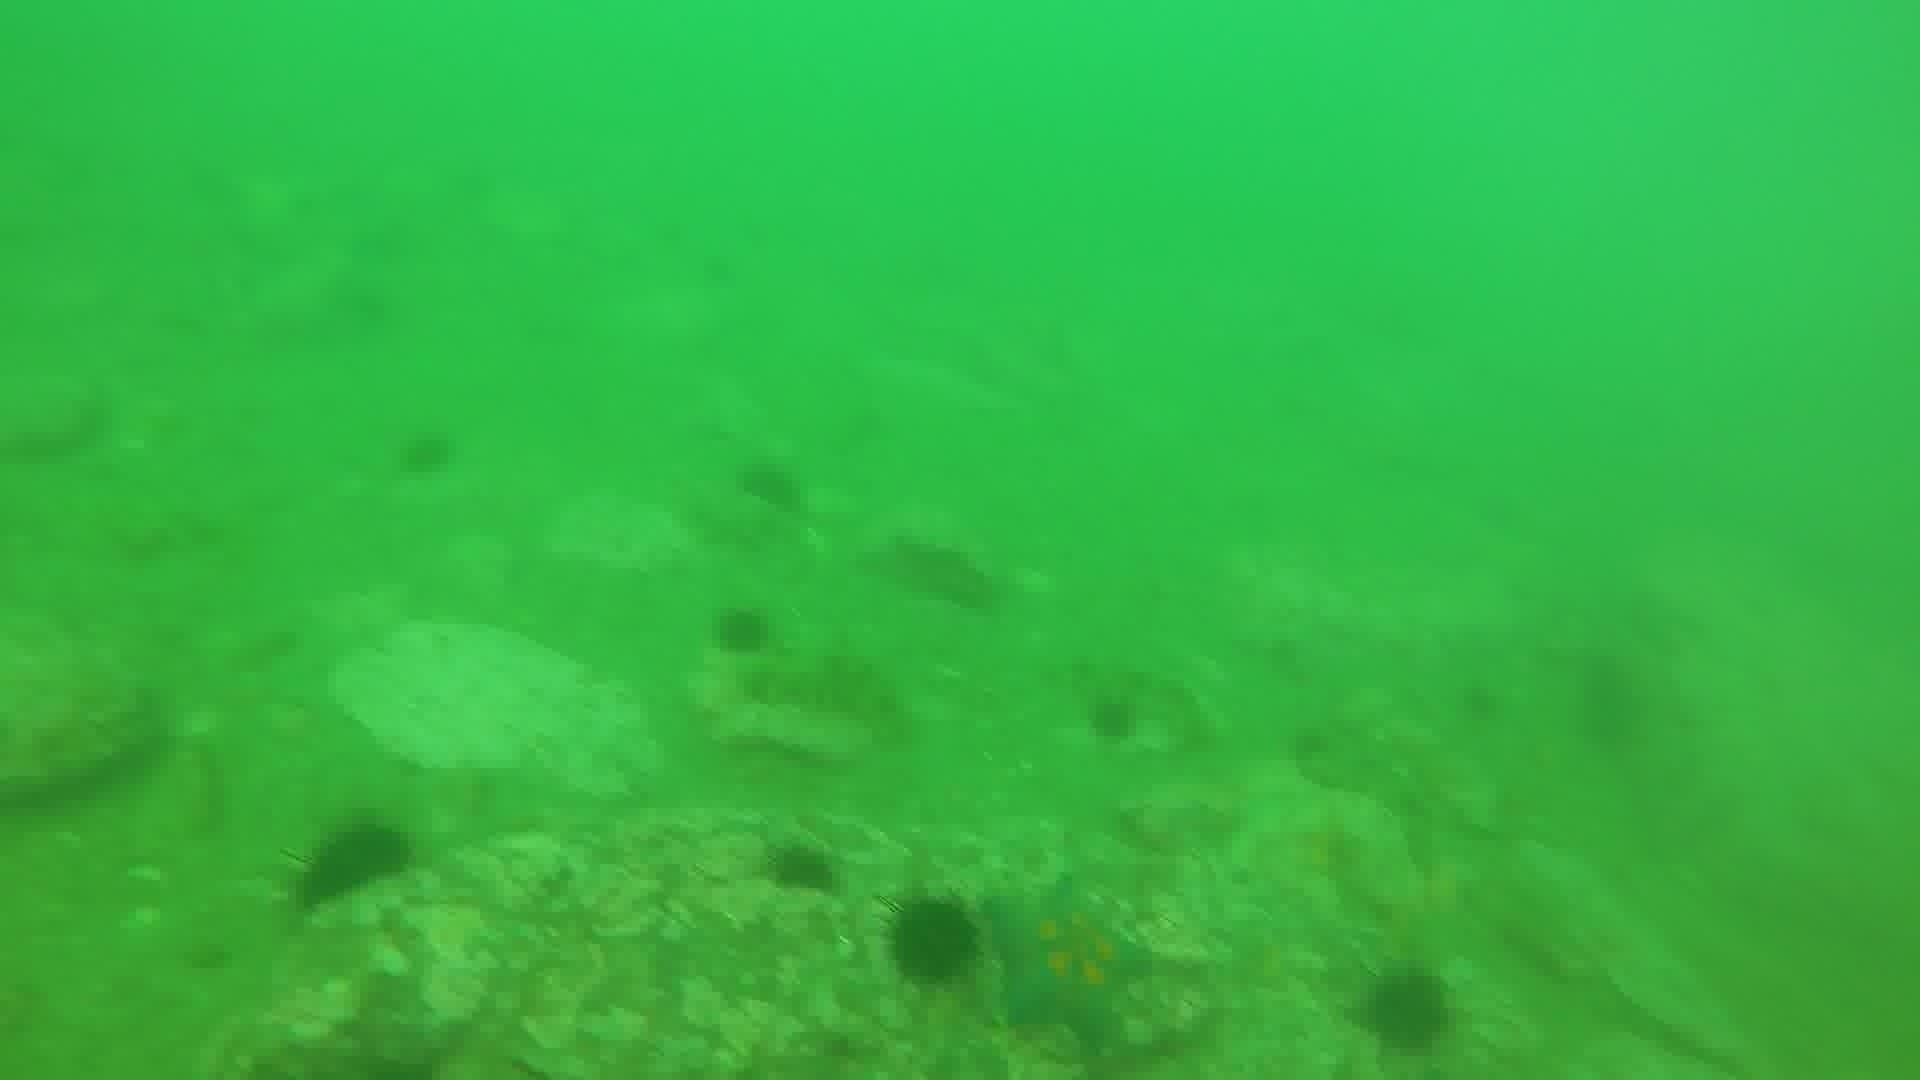echinus: (281, 814, 415, 918), (881, 891, 984, 990), (1356, 964, 1458, 1058), (760, 837, 843, 902), (733, 455, 808, 517), (708, 603, 778, 659), (393, 425, 460, 481), (1472, 673, 1532, 731), (1280, 720, 1342, 777), (1083, 690, 1143, 746), (1246, 630, 1307, 687)
holothurian: (735, 644, 916, 740)
starfish: (981, 880, 1155, 1046)
